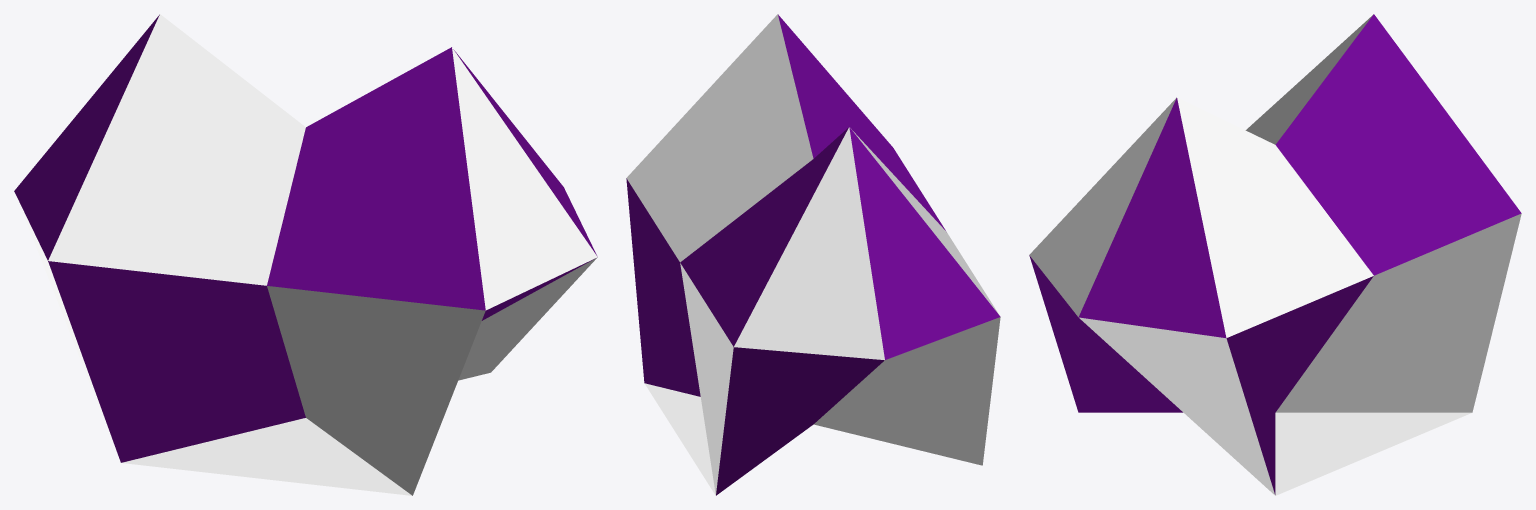
Rendered from skin_9_2_model.fbx.
3 views of the same model, side by side, from view 1: azimuth 30°, elevation 25°; view 2: azimuth 150°, elevation 25°; view 3: azimuth 270°, elevation 25° (orthographic). The views are drawn at different scales.
Visible parts, largest first — view 1: Cube; view 2: Cube; view 3: Cube.
Boxes of the visible parts, bbox=[...] form: Cube: bbox=[14, 14, 597, 495]; Cube: bbox=[626, 14, 1000, 495]; Cube: bbox=[1029, 14, 1521, 495].
Size of the model in its own units: 250 by 200 by 250.
